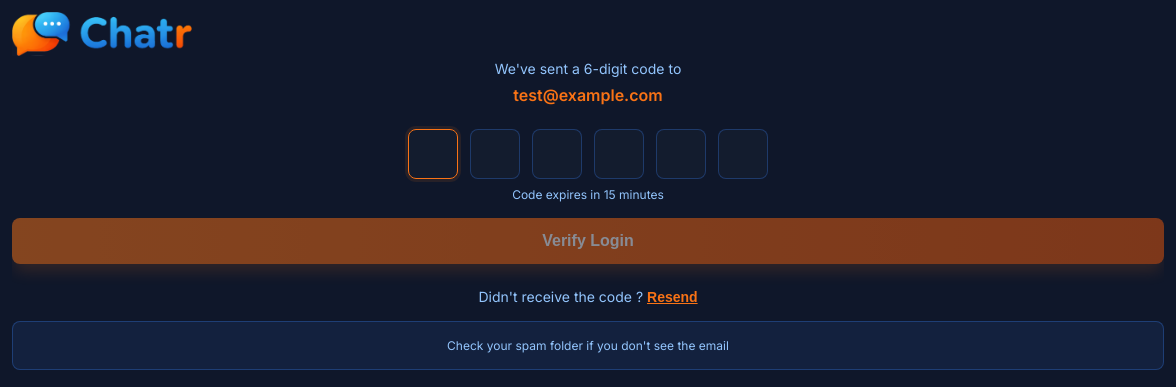
Scenario: LoginVerification Component › shows loading state during verification
In the 1st field: [433, 154] box x1=408 y1=129 x2=458 y2=179, type "1"
In the 2nd field: [495, 154] box x1=470 y1=129 x2=520 y2=179, type "2"
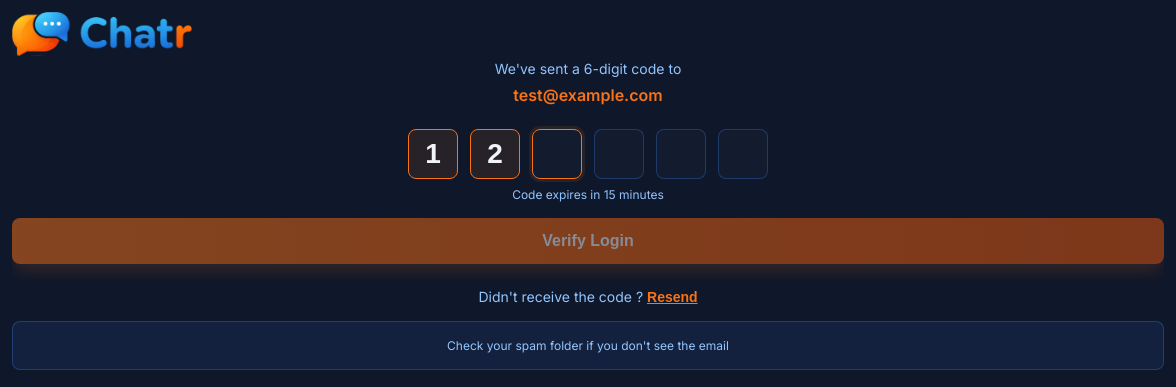
In the 3rd field: [557, 154] box x1=532 y1=129 x2=582 y2=179, type "3"
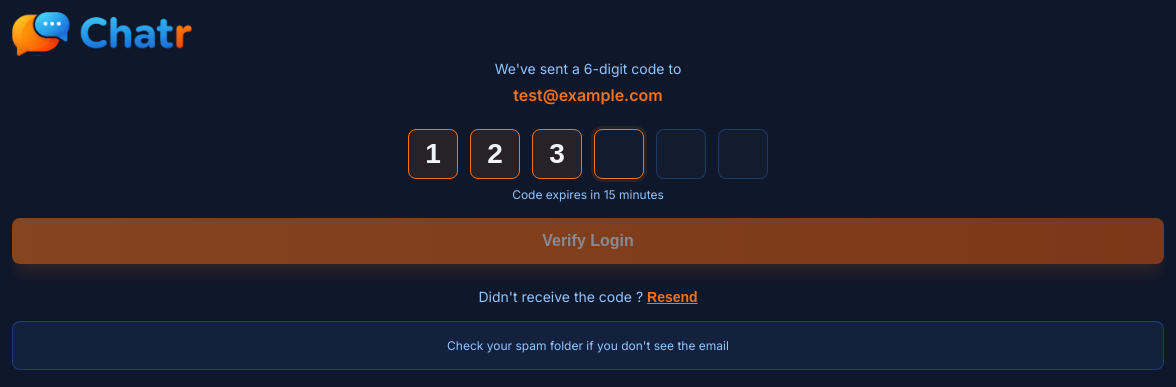
In the 4th field: [619, 154] box x1=594 y1=129 x2=644 y2=179, type "4"
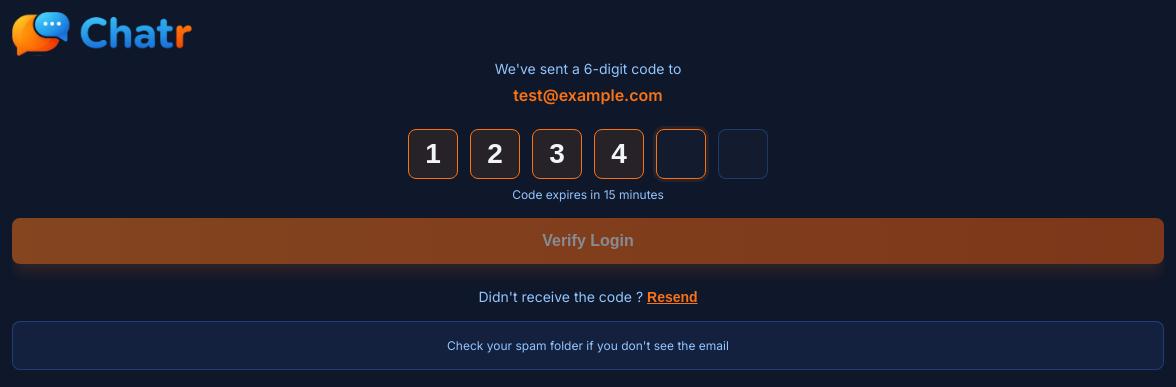
In the 5th field: [681, 154] box x1=656 y1=129 x2=706 y2=179, type "5"
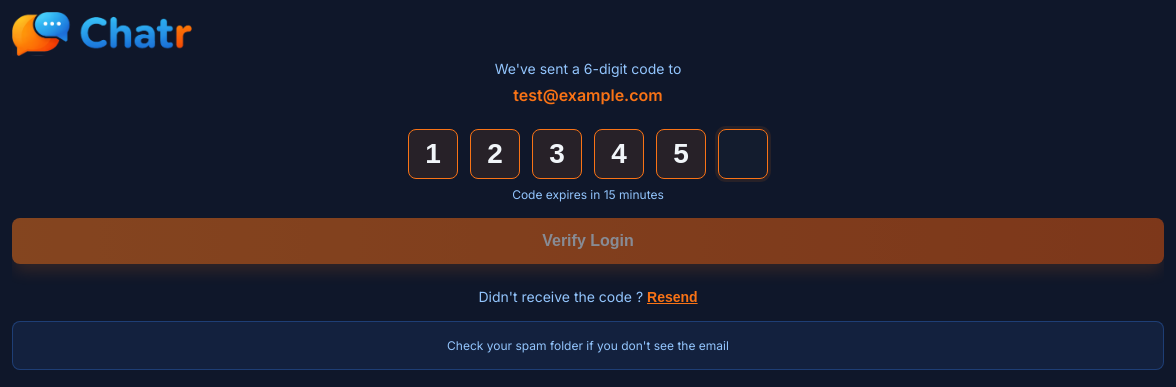
In the 6th field: [743, 154] box x1=718 y1=129 x2=768 y2=179, type "6"
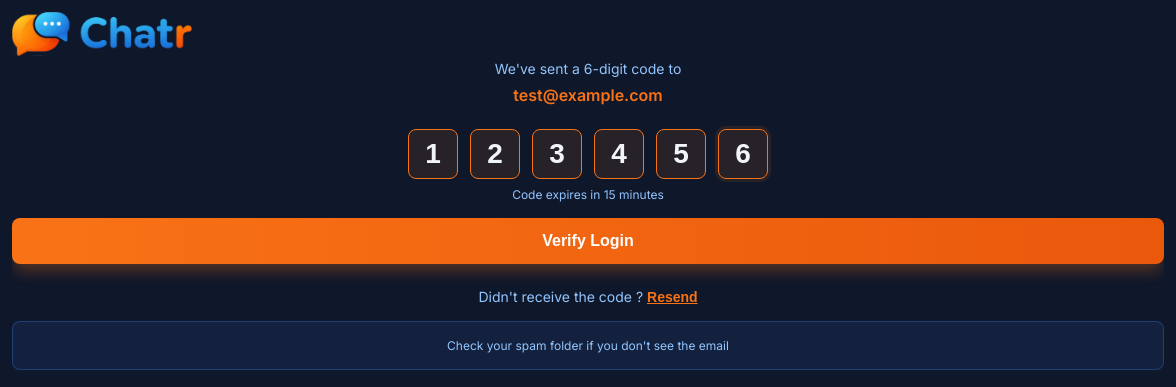
Click the button "Verify Login": [588, 241] box x1=12 y1=218 x2=1164 y2=264
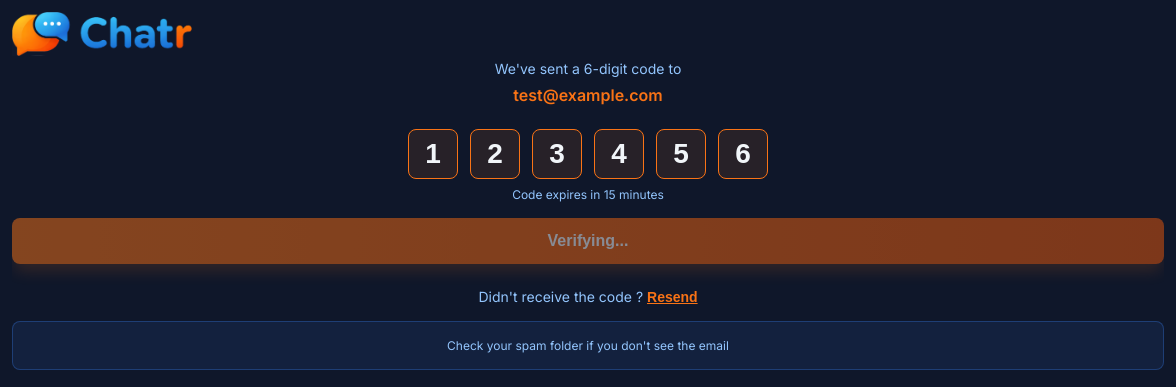
Expected: the button "Verifying..." is shown, x1=12 y1=218 x2=1164 y2=264
